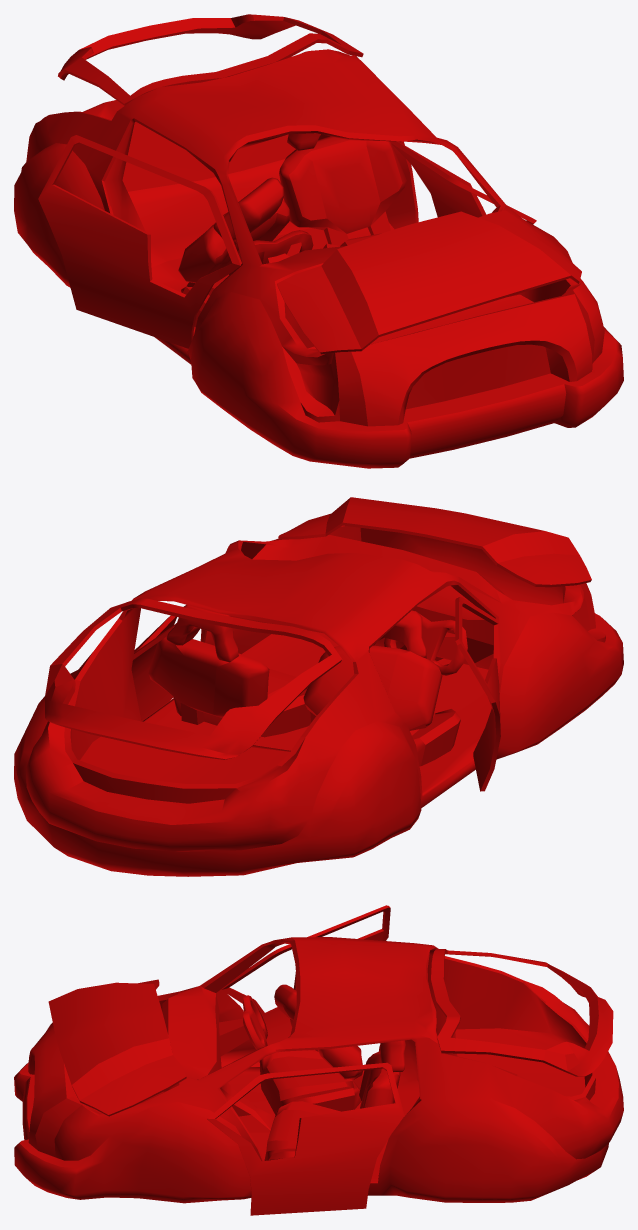
Rendered from mesh_Car_v2.fbx.
The picture shows the model from 3 angles, top to bottom: view 1: azimuth 30°, elevation 25°; view 2: azimuth 150°, elevation 25°; view 3: azimuth 270°, elevation 25°; orthographic projection. The views are drawn at different scales.
Parts seen in each view (by area): view 1: mesh_Car_v2_0; view 2: mesh_Car_v2_0; view 3: mesh_Car_v2_0.
Boxes of the visible parts, bbox=[...] form: mesh_Car_v2_0: bbox=[14, 14, 623, 468]; mesh_Car_v2_0: bbox=[14, 497, 623, 876]; mesh_Car_v2_0: bbox=[14, 905, 623, 1215].
Size of the model in its own units: 227 by 114 by 361.
